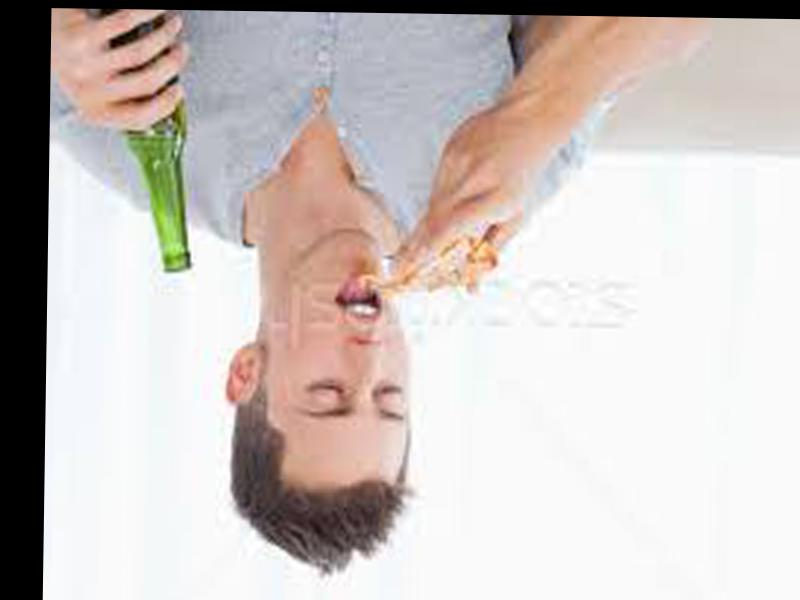Beer: (93, 8, 196, 272)
